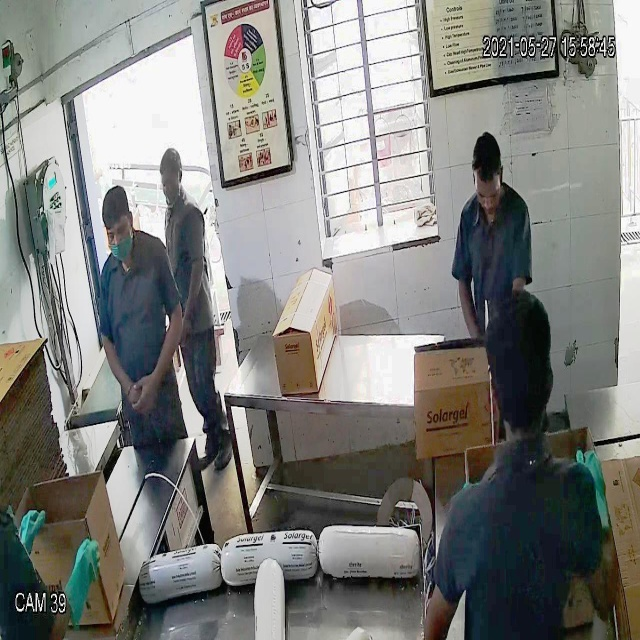Sin_gafas: (470, 176, 507, 209), (99, 218, 135, 247)
